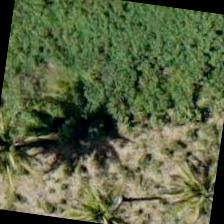Kelapa_Sawit: (144, 142, 219, 223), (72, 162, 171, 223), (0, 104, 57, 202)
